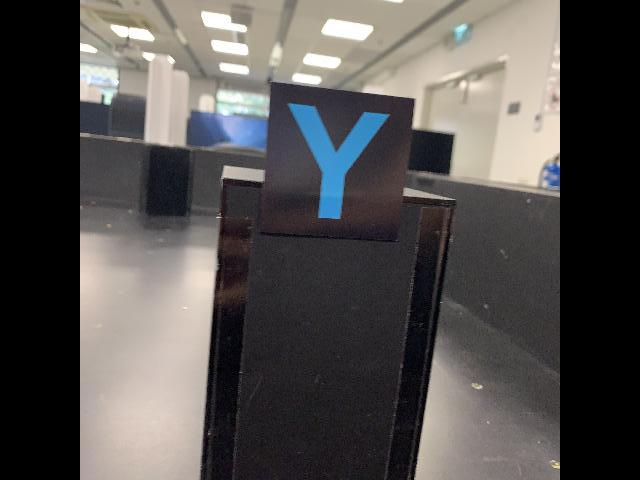alphabet_y: (257, 80, 418, 248)
